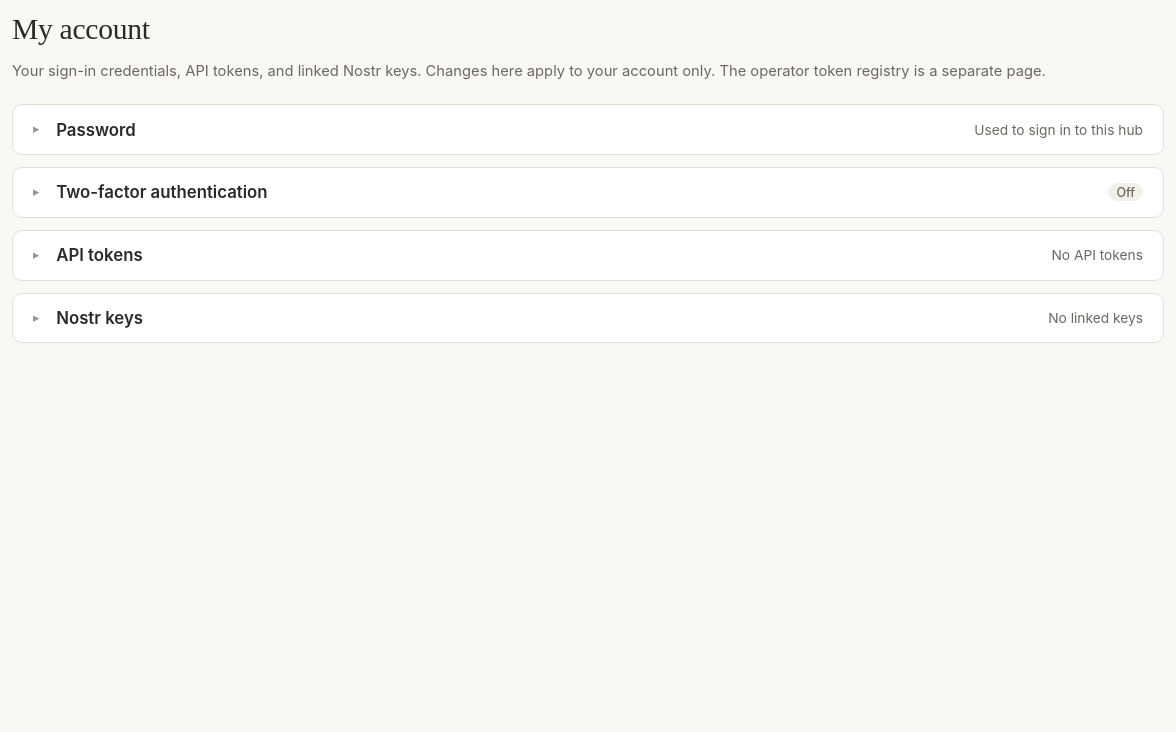
Test: Account — disclosure cards (hub#880) › collapses every section by default and toggles one open
Click the button with test id "account-password-toggle". click: (96, 130)
box: [13,105,1163,154]
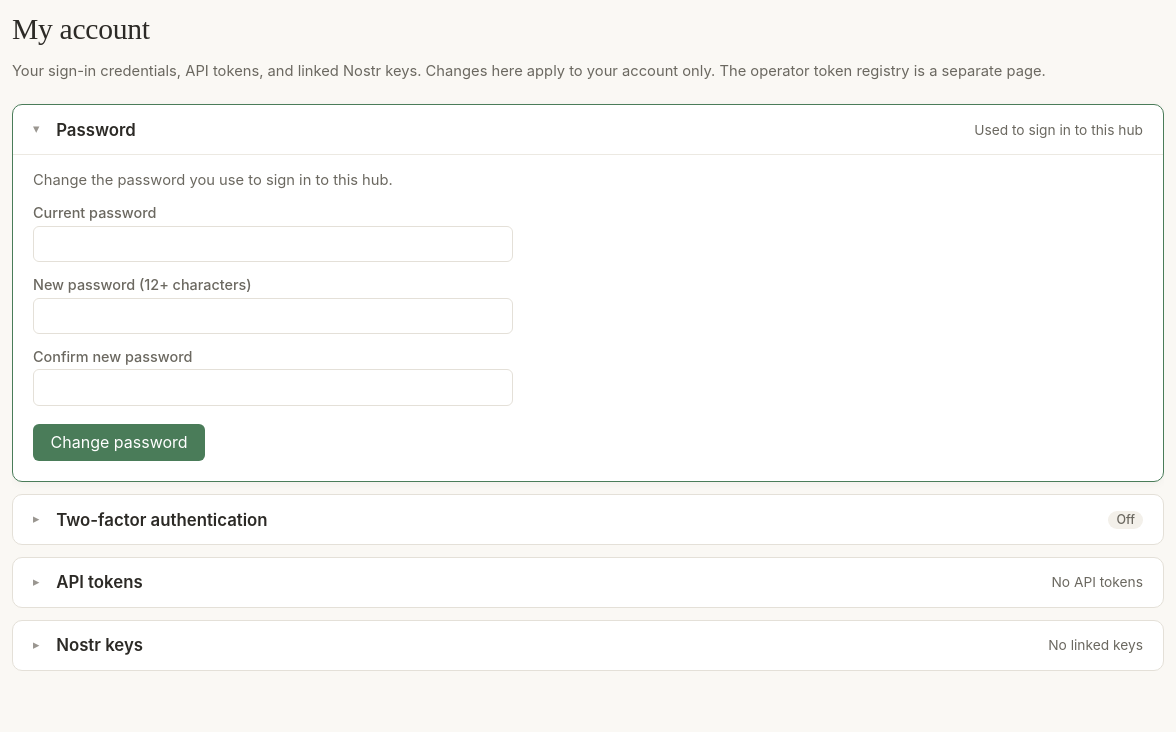
Result: the password field with test id "account-current-password" is shown at [33,226,513,262]
# ...and closing it again puts the body away.
Click the button with test id "account-password-toggle". click: (96, 130)
box: [13,105,1163,154]
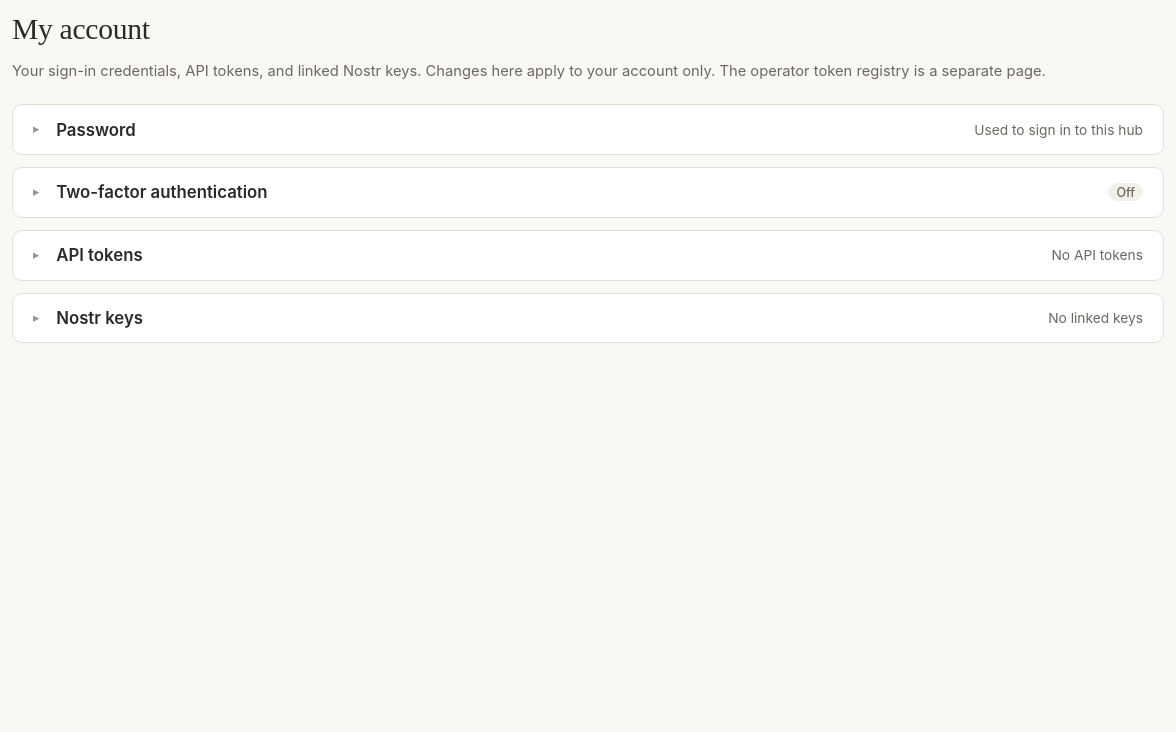
Result: the password field with test id "account-current-password" is gone
